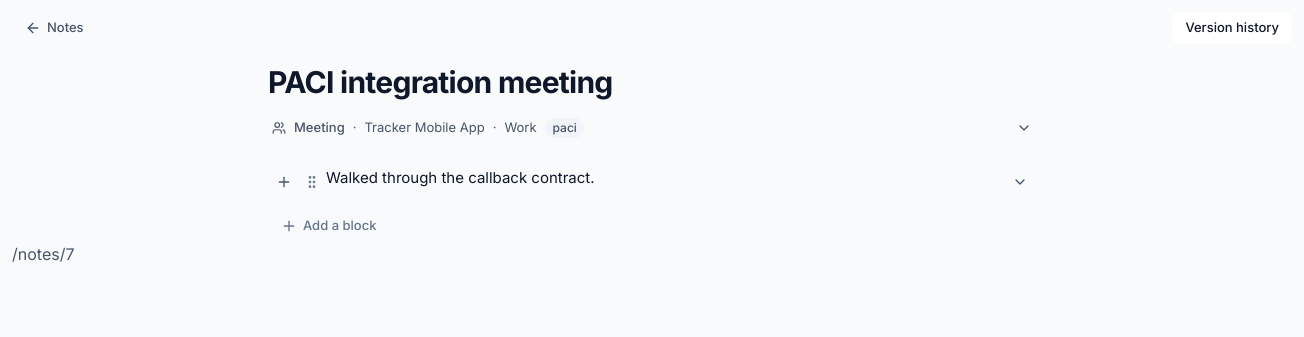
Test: NotePage - slash command palette › opens on "/", filters, and creates the chosen block type
The width and height of the screenshot is (1304, 337).
Replace the text in the 2nd text box with "/head" at (663, 178), box [326,162,1000,194]
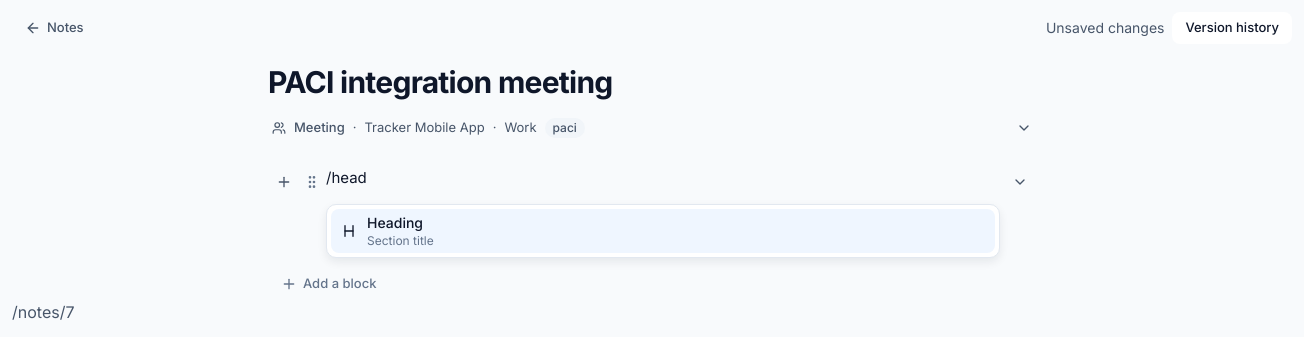
Now the option "Heading Section title" is shown, box [331,209,995,253]
Press Enter
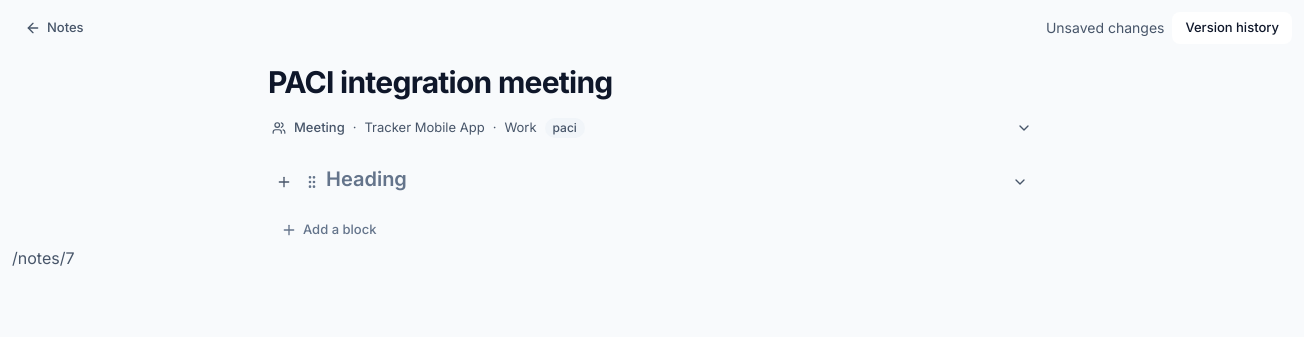
Now the list is gone
